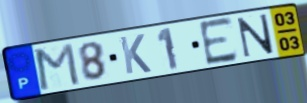1: (156, 25, 181, 72)
8: (76, 40, 109, 83)
E: (197, 15, 241, 68)
K: (117, 33, 154, 76)
M: (34, 41, 82, 93)
N: (235, 12, 276, 59)
